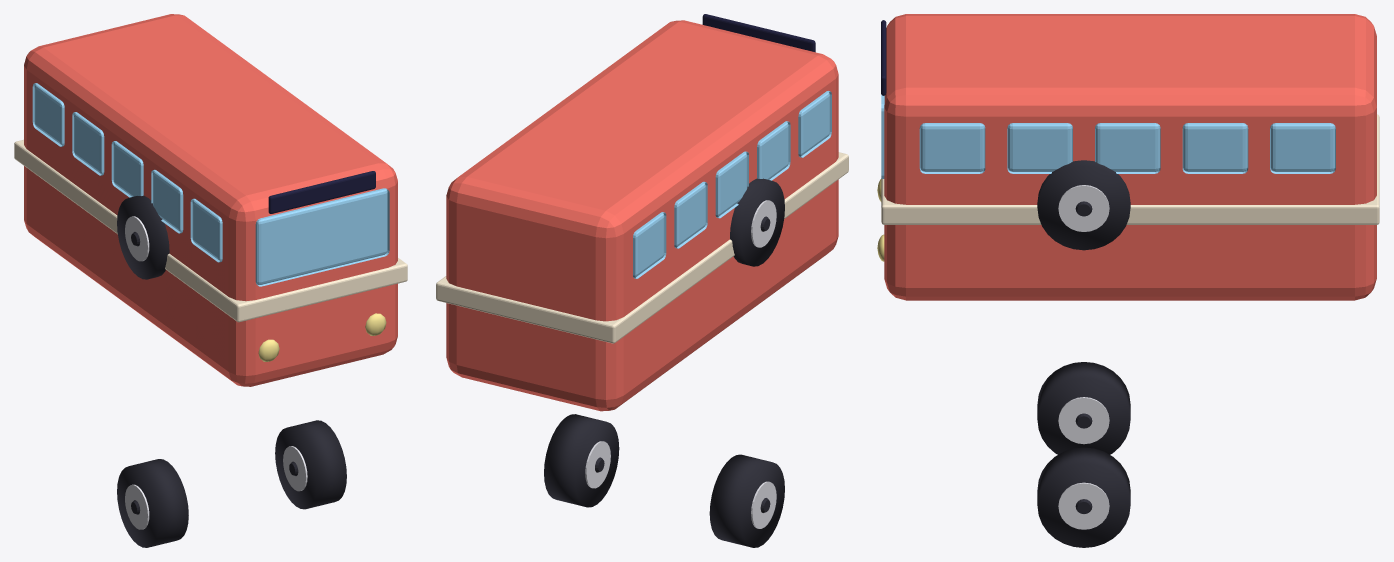
The model's file is Car_Bus.fbx.
The picture shows the model from 3 angles, left to right: view 1: azimuth 30°, elevation 25°; view 2: azimuth 150°, elevation 25°; view 3: azimuth 270°, elevation 25°; orthographic projection. The views are drawn at different scales.
Parts seen in each view (by area): view 1: Car_Bus, Wheel_FR, Wheel_FL, Wheel_RL; view 2: Car_Bus, Wheel_FR, Wheel_FL, Wheel_RL; view 3: Car_Bus, Wheel_FR, Wheel_FL, Wheel_RR.
Boxes of the visible parts, left/top/right/bottom form: Car_Bus: left=14, top=14, right=407, bottom=386; Wheel_FR: left=275, top=420, right=346, bottom=509; Wheel_FL: left=117, top=459, right=188, bottom=547; Wheel_RL: left=117, top=195, right=169, bottom=279; Car_Bus: left=436, top=14, right=848, bottom=411; Wheel_FR: left=544, top=414, right=619, bottom=507; Wheel_FL: left=709, top=454, right=784, bottom=547; Wheel_RL: left=730, top=178, right=784, bottom=266; Car_Bus: left=877, top=14, right=1379, bottom=300; Wheel_FR: left=1037, top=447, right=1130, bottom=547; Wheel_FL: left=1037, top=362, right=1130, bottom=454; Wheel_RR: left=1037, top=160, right=1130, bottom=250.
Bounding box in the file's own units: 0.9164 × 1.81 × 1.83.
